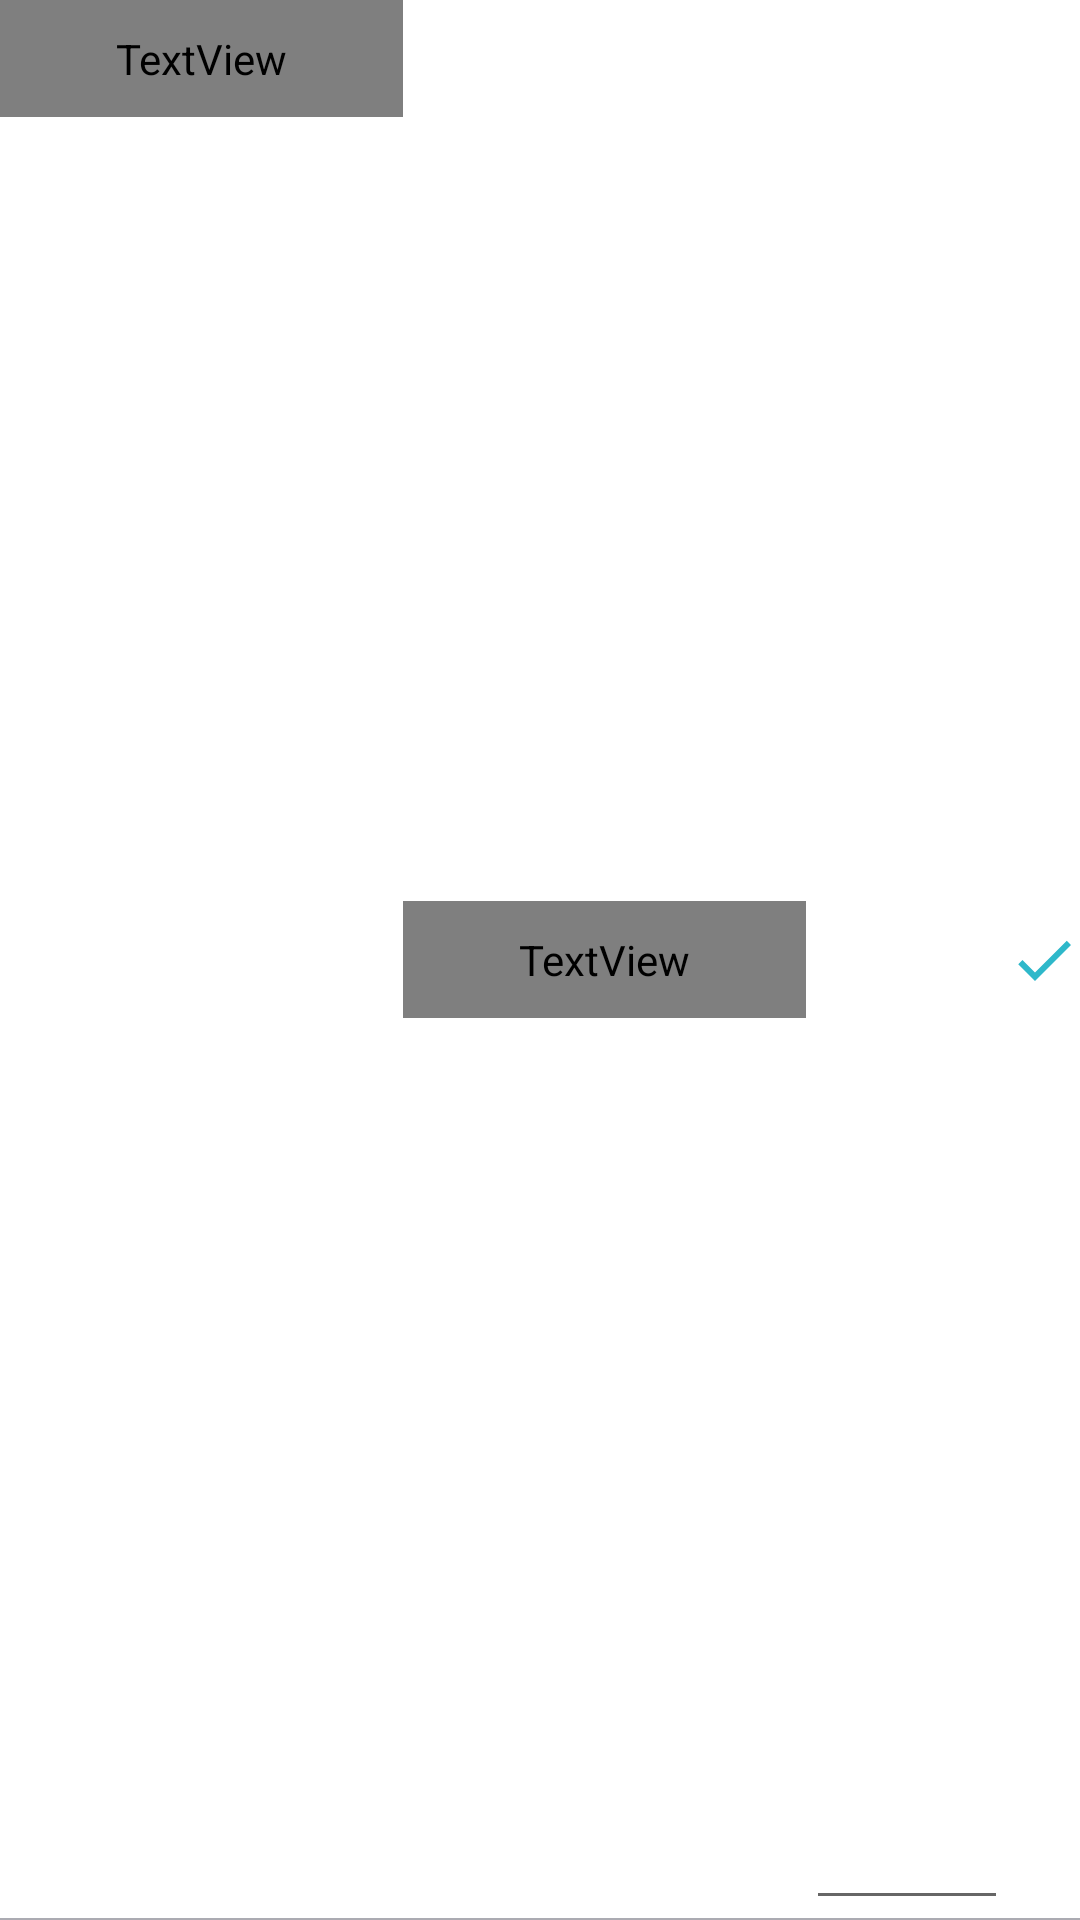

Screen size 1080*1920. Icon name, then its box in pixels as (x1, y1, x2, y2):
check: (1018, 941, 1071, 981)
